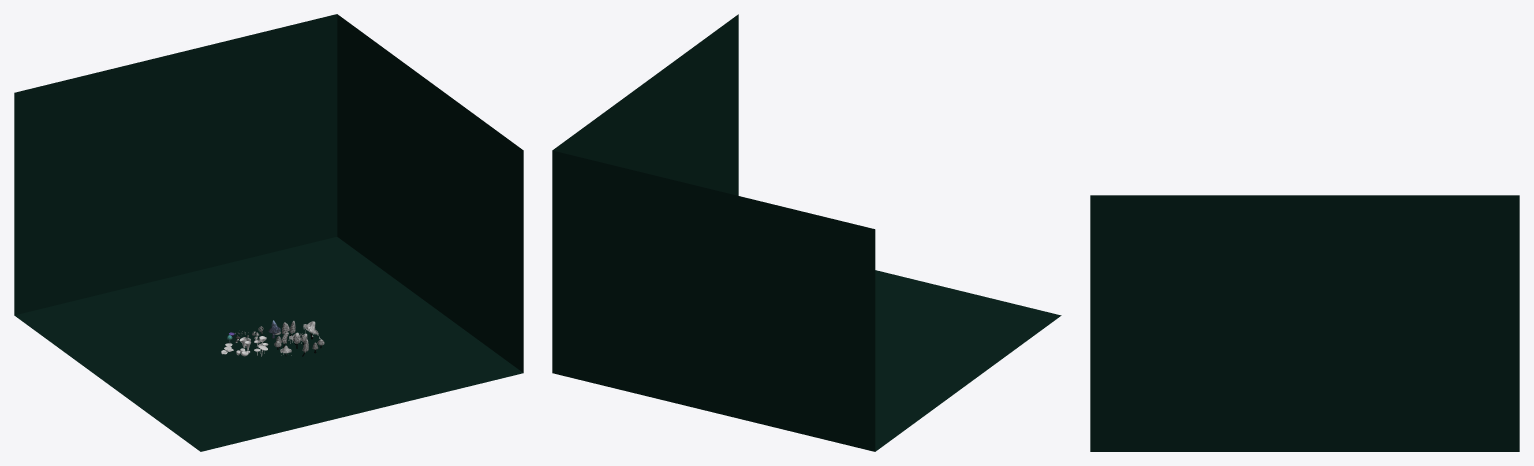
The model's file is 无标题.fbx.
3 views of the same model, side by side, from view 1: azimuth 30°, elevation 25°; view 2: azimuth 150°, elevation 25°; view 3: azimuth 270°, elevation 25° (orthographic). The views are drawn at different scales.
Visible parts, largest first — view 1: 平面; view 2: 平面; view 3: 平面.
Boxes of the visible parts, box(x1,y1,x2,y2) form: 平面: box(14, 14, 523, 451); 平面: box(552, 14, 1061, 451); 平面: box(1090, 195, 1519, 451).
Size of the model in its own units: 24358 by 16162 by 24358.
